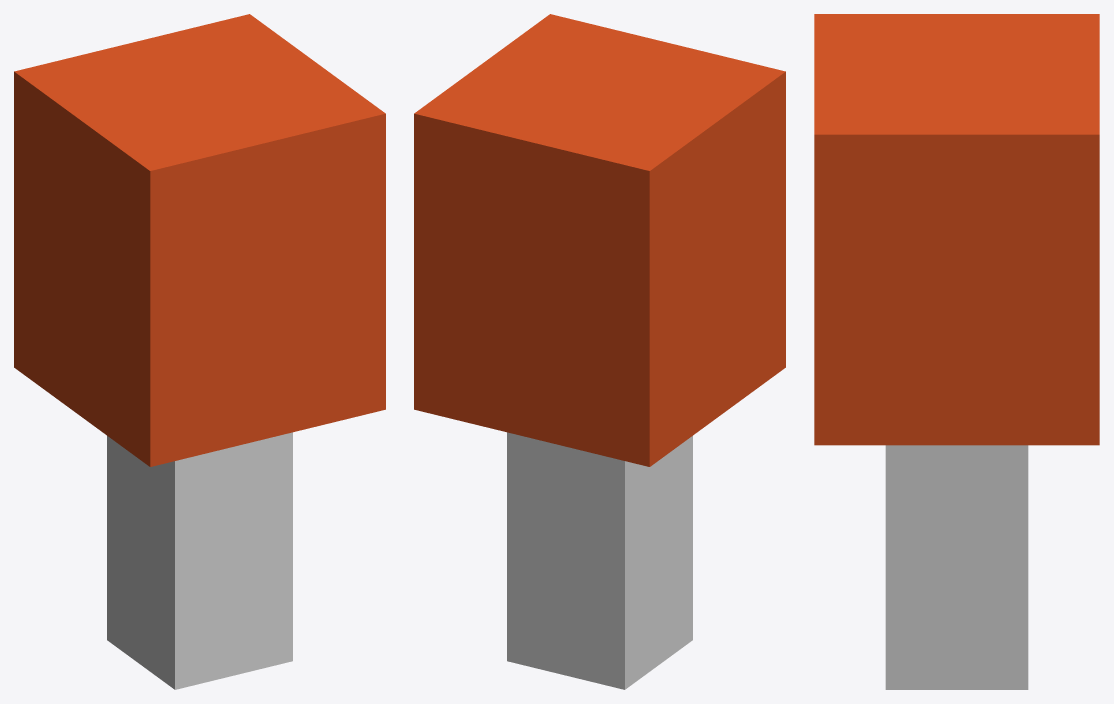
File: dagingMatang.glb
3 views of the same model, side by side, from view 1: azimuth 30°, elevation 25°; view 2: azimuth 150°, elevation 25°; view 3: azimuth 270°, elevation 25° (orthographic). The views are drawn at different scales.
Parts seen in each view (by area): view 1: Cube.001, Batang; view 2: Cube.001, Batang; view 3: Cube.001, Batang.
Boxes of the visible parts, x1,y1,x2,y2 form: Cube.001: [14, 14, 385, 466]; Batang: [107, 432, 292, 689]; Cube.001: [414, 14, 785, 466]; Batang: [507, 432, 692, 689]; Cube.001: [814, 14, 1099, 445]; Batang: [885, 445, 1028, 689].
Size of the model in its own units: 2 by 4.53 by 2.
